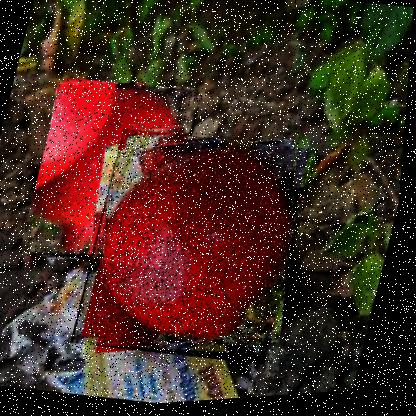pomegranate: (74, 119, 323, 379), (21, 69, 206, 277)
